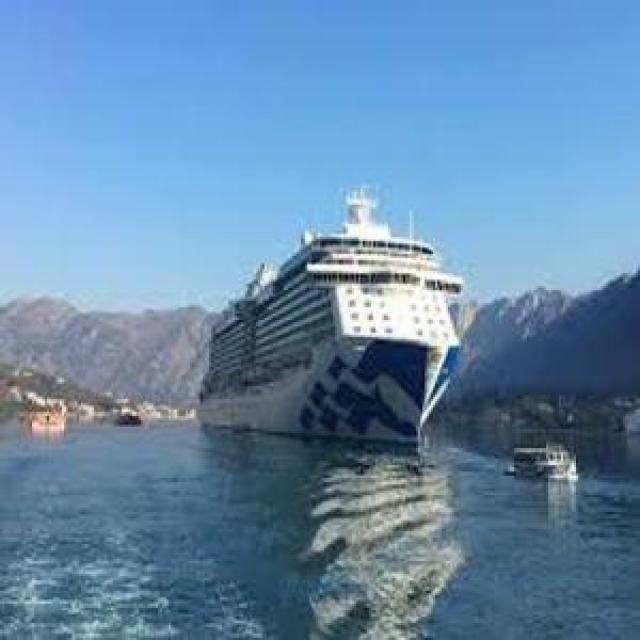passenger ship: (194, 190, 467, 450)
